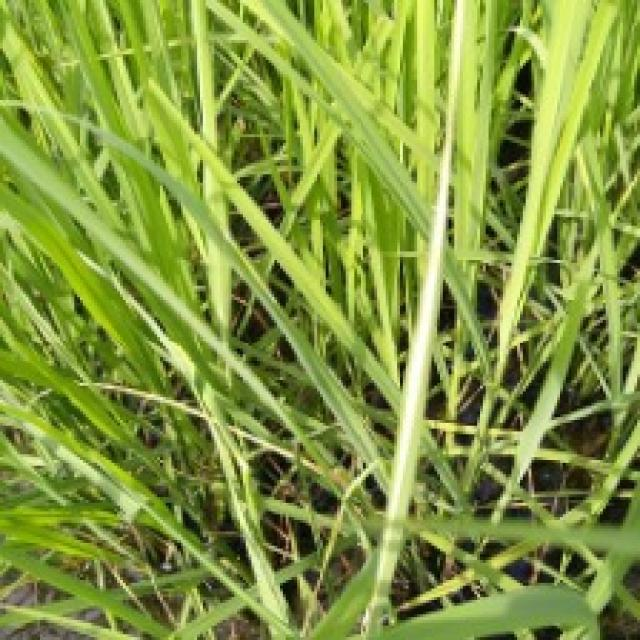Rice___Bacterial_Leaf_Blight: (354, 118, 456, 637)
